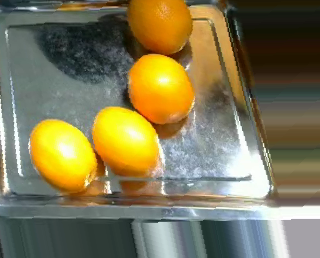Orange: (28, 117, 98, 191), (92, 106, 160, 178), (127, 53, 195, 123), (126, 1, 192, 53)
